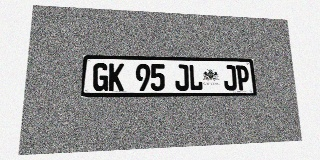5: (151, 64, 165, 91)
9: (136, 64, 150, 91)
G: (92, 63, 109, 91)
J: (175, 64, 189, 91), (223, 65, 237, 90)
K: (108, 63, 124, 91)
L: (189, 64, 203, 91)
P: (236, 65, 250, 90)
